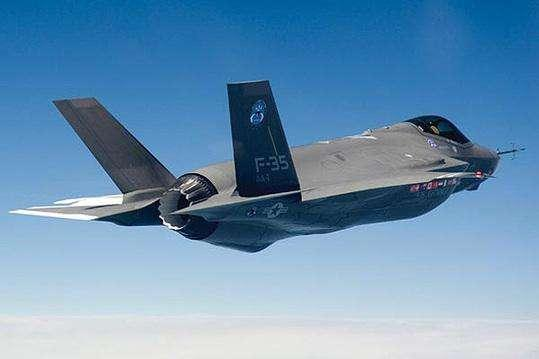airplane: (5, 80, 532, 255)
